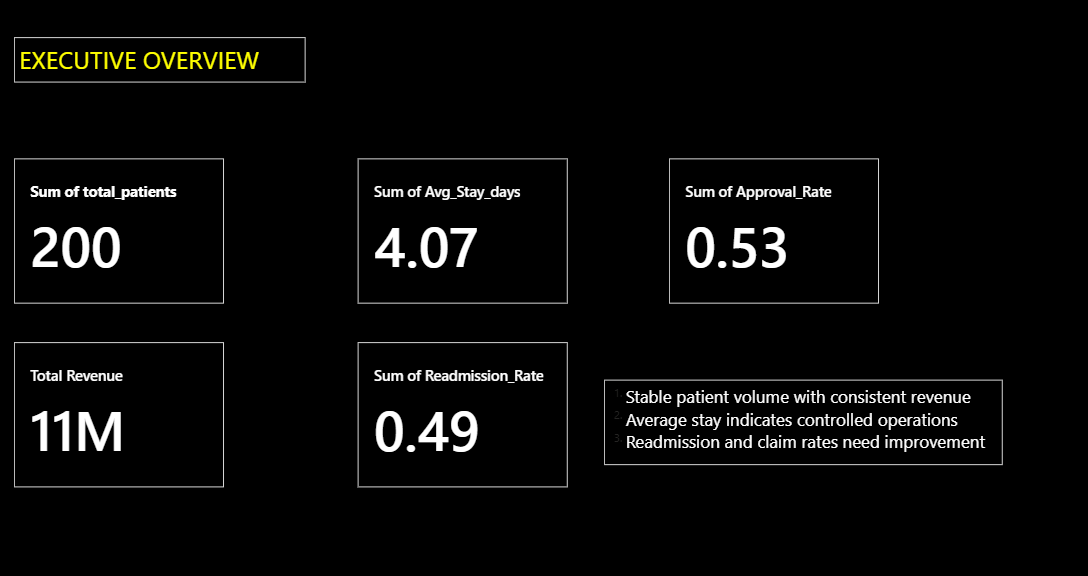

What the dashboard file says about the page in this screenshot:
{"tool":"powerbi","page":{"name":"Page 1","canvas":[1280,720],"ordinal":0},"visuals":[{"type":"cardVisual","fields":{"Data":["Sum(Total Patients.total_patients)"]},"box":[65.9,200.3,230.5,159.2],"z":0},{"type":"cardVisual","fields":{"Data":["Total Patients.Total Revenue"]},"box":[65.9,402.1,230.5,159.2],"z":1000},{"type":"cardVisual","fields":{"Data":["Sum(Avg_Stay_Days.Avg_Stay_days)"]},"box":[443.2,200.3,230.5,159.2],"z":2000},{"type":"cardVisual","fields":{"Data":["Sum(Readmission_Rate.Readmission_Rate)"]},"box":[443.2,402.1,230.5,159.2],"z":3000},{"type":"cardVisual","fields":{"Data":["Sum(Claim_Approval_Rate.Approval_Rate)"]},"box":[784.9,200.3,230.5,159.2],"z":4000},{"type":"textbox","box":[713.6,443.2,437.7,93.3],"z":4001},{"type":"textbox","box":[65.9,67.2,319.7,49.4],"z":4002}]}

Visuals, with their boxes on the page's 1280x720 design canvas (x1, y1, x2, y2). These are canvas units, not pixel positions in the 1088x576 screenshot, which may show the page scaled, cropped or inside an application window:
cardVisual - Sum(Total Patients.total_patients): (66,200,296,360)
cardVisual - Total Patients.Total Revenue: (66,402,296,561)
cardVisual - Sum(Avg_Stay_Days.Avg_Stay_days): (443,200,674,360)
cardVisual - Sum(Readmission_Rate.Readmission_Rate): (443,402,674,561)
cardVisual - Sum(Claim_Approval_Rate.Approval_Rate): (785,200,1015,360)
textbox: (714,443,1151,536)
textbox: (66,67,386,117)
